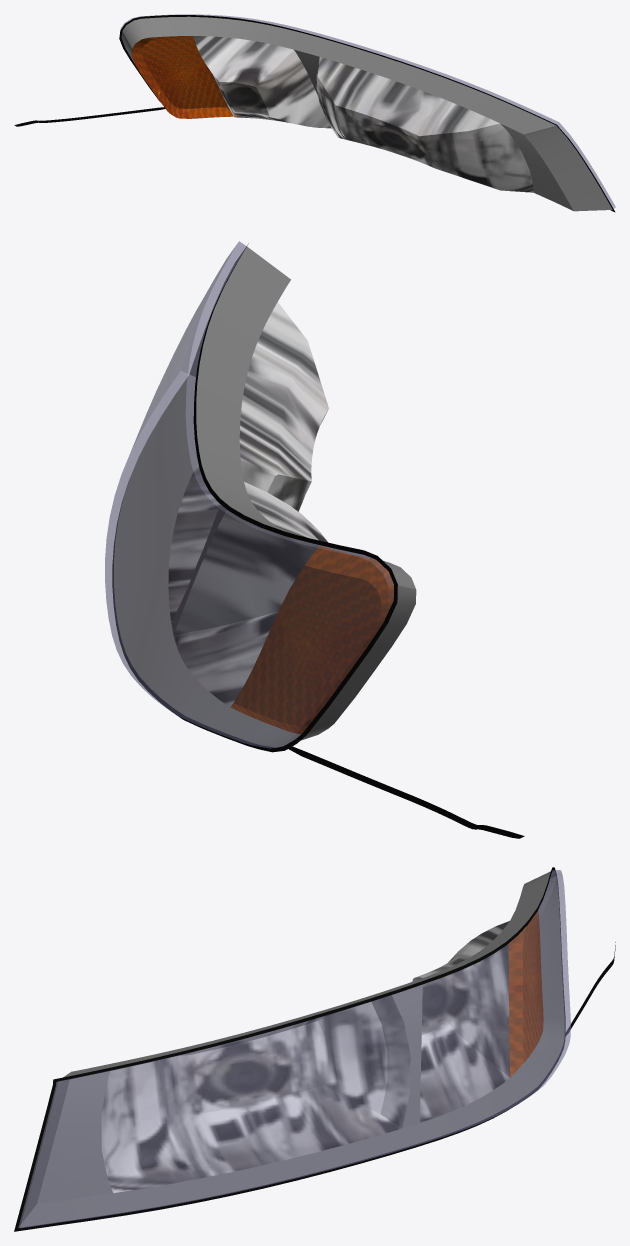
3 renders of one model, top to bottom at view 1: azimuth 30°, elevation 25°; view 2: azimuth 150°, elevation 25°; view 3: azimuth 270°, elevation 25°, orthographic. The views are drawn at different scales.
Parts seen in each view (by area): view 1: H611_061B_L_H611_061B_L_3_N, H611_061B_L_1_DaS_H611_061B_L, H611_061B_L_H611_061B_L_4_N, H611_061B_L_H611_061B_L_5_N, H611_061B_L_H611_061B_L_7_D, H611_061B_L_H611_061B_L_6_DTaSI; view 2: H611_061B_L_H611_061B_L_6_DTaSI, H611_061B_L_1_DaS_H611_061B_L, H611_061B_L_H611_061B_L_5_N, H611_061B_L_H611_061B_L_4_N, H611_061B_L_H611_061B_L_3_N, H611_061B_L_H611_061B_L_7_D; view 3: H611_061B_L_H611_061B_L_6_DTaSI, H611_061B_L_H611_061B_L_3_N, H611_061B_L_1_DaS_H611_061B_L, H611_061B_L_H611_061B_L_4_N, H611_061B_L_H611_061B_L_7_D, H611_061B_L_H611_061B_L_5_N.
Part boxes in pixels (left/top/right/bottom): H611_061B_L_H611_061B_L_3_N: left=316, top=57, right=533, bottom=192; H611_061B_L_1_DaS_H611_061B_L: left=121, top=16, right=612, bottom=211; H611_061B_L_H611_061B_L_4_N: left=193, top=36, right=330, bottom=128; H611_061B_L_H611_061B_L_5_N: left=131, top=36, right=233, bottom=118; H611_061B_L_H611_061B_L_7_D: left=14, top=15, right=615, bottom=212; H611_061B_L_H611_061B_L_6_DTaSI: left=120, top=14, right=615, bottom=208; H611_061B_L_H611_061B_L_6_DTaSI: left=105, top=241, right=393, bottom=748; H611_061B_L_1_DaS_H611_061B_L: left=114, top=246, right=416, bottom=747; H611_061B_L_H611_061B_L_5_N: left=231, top=545, right=393, bottom=734; H611_061B_L_H611_061B_L_4_N: left=173, top=482, right=327, bottom=707; H611_061B_L_H611_061B_L_3_N: left=168, top=302, right=328, bottom=622; H611_061B_L_H611_061B_L_7_D: left=112, top=243, right=524, bottom=838; H611_061B_L_H611_061B_L_6_DTaSI: left=18, top=870, right=570, bottom=1228; H611_061B_L_H611_061B_L_3_N: left=101, top=995, right=410, bottom=1192; H611_061B_L_1_DaS_H611_061B_L: left=18, top=870, right=564, bottom=1227; H611_061B_L_H611_061B_L_4_N: left=412, top=921, right=510, bottom=1122; H611_061B_L_H611_061B_L_7_D: left=14, top=867, right=615, bottom=1231; H611_061B_L_H611_061B_L_5_N: left=508, top=910, right=543, bottom=1077.
Size of the model in its own units: 60.94 by 18.49 by 59.2.
